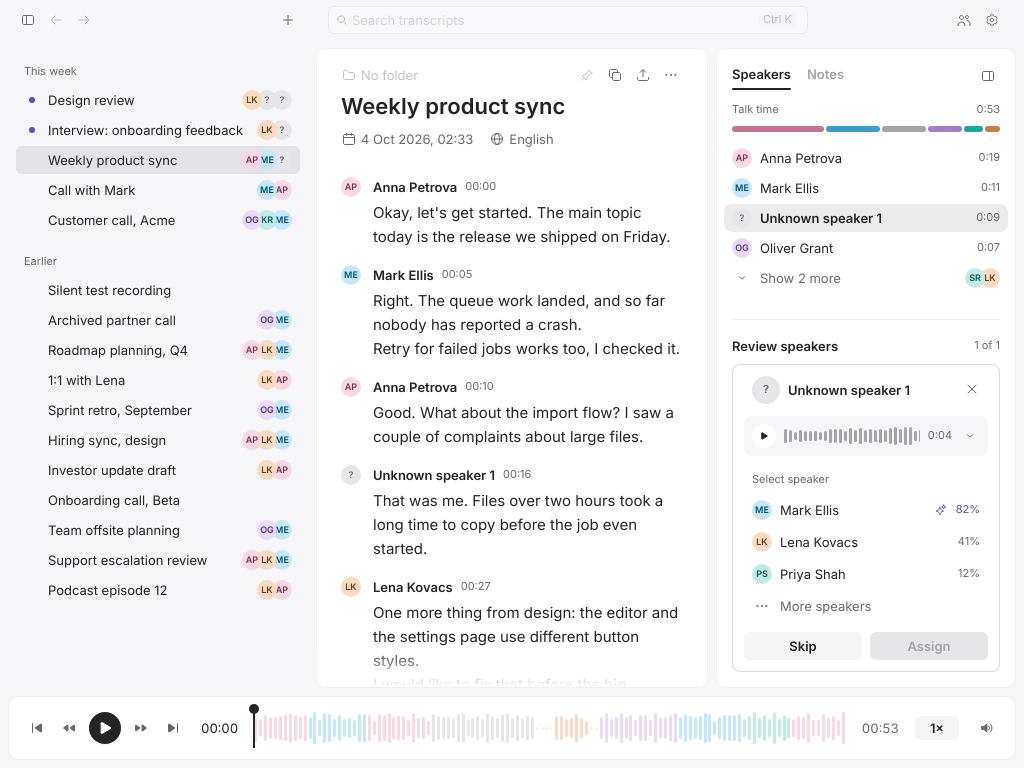
the Notes tab › is a tab like the others and shows the saved note, rendered
Expected: the heading "Weekly product sync" is shown, left=341, top=93, right=565, bottom=121
Click the tab "Notes" at (826, 77), box left=807, top=64, right=844, bottom=90
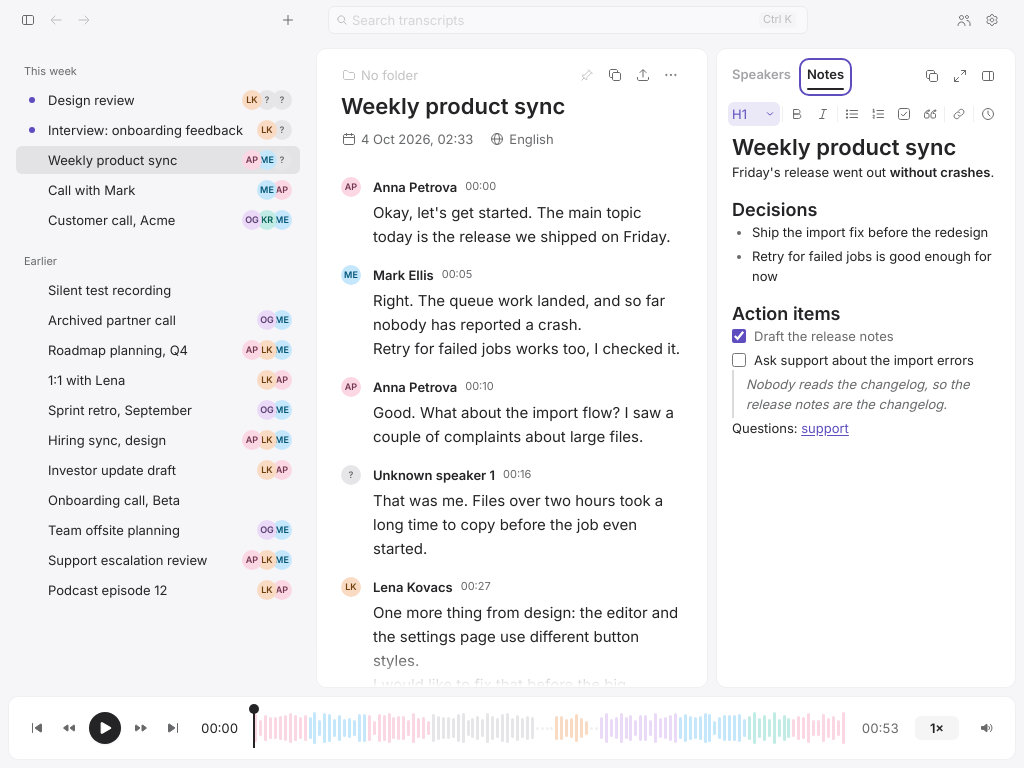
Expected: the 2nd heading "Weekly product sync" is shown, left=732, top=134, right=956, bottom=160
Expected: the number of checkboxes is 2, left=732, top=329, right=746, bottom=343; left=732, top=353, right=746, bottom=367
